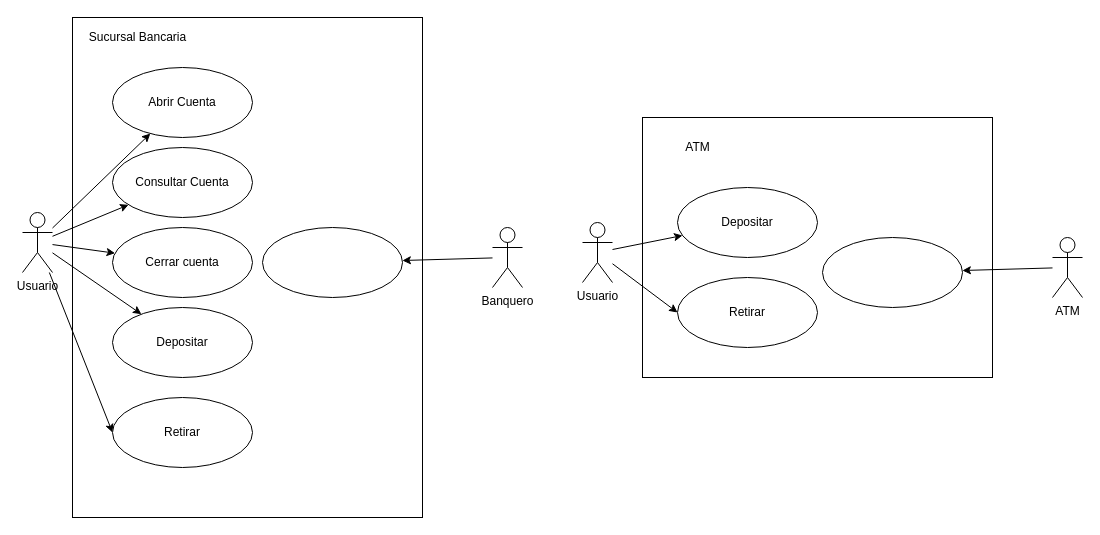
The diagram is 1100 pixels wide and 535 high, and some of its shapes have lost their labels. The shapes that lost their labels are listed below. From the top down, each one's box as (x1, y1, x2, y2) in pixels, then its label:
(262, 226, 402, 298): Atender Cliente
(822, 236, 962, 308): Procesar Petición
